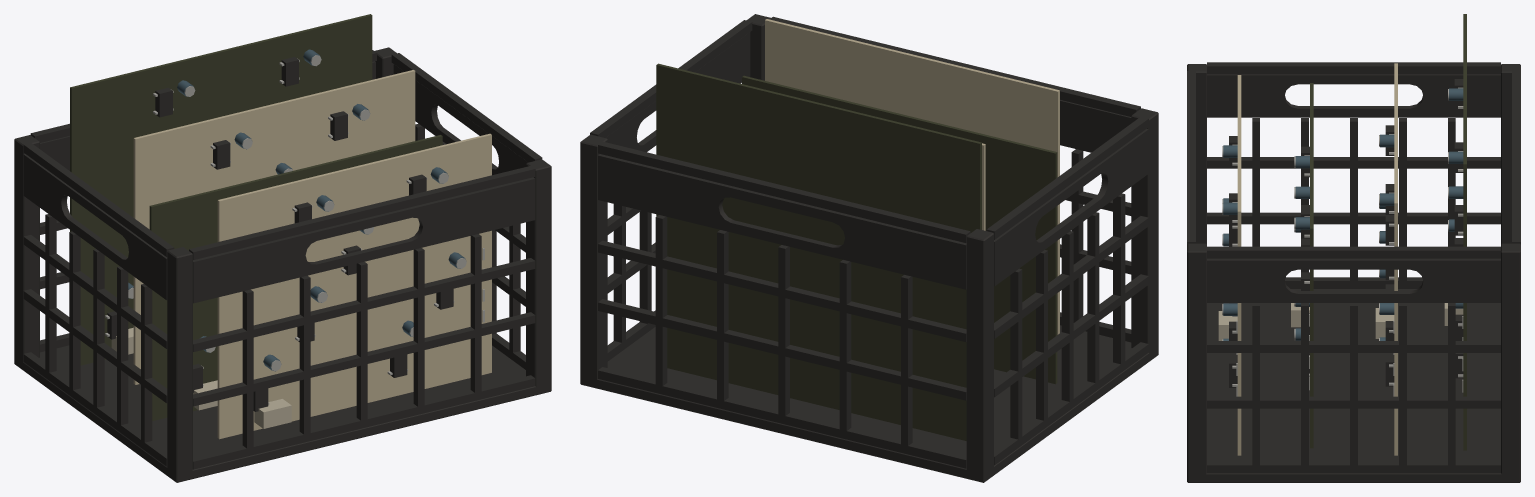
File: crate-salvaged-boards-5e70f31da496.glb
The picture shows the model from 3 angles, left to right: view 1: azimuth 30°, elevation 25°; view 2: azimuth 150°, elevation 25°; view 3: azimuth 270°, elevation 25°; orthographic projection. The views are drawn at different scales.
Visible parts, largest first — view 1: plastic-dark, enamel-beige, paint-olive, brushed, enamel-blue, plastic-light; view 2: plastic-dark, paint-olive, enamel-beige; view 3: plastic-dark, enamel-blue, enamel-beige, paint-olive, brushed, plastic-light.
Part boxes in pixels (x1,y1,x2,y2): plastic-dark: [14, 47, 551, 482]; enamel-beige: [133, 70, 491, 439]; paint-olive: [70, 14, 442, 420]; brushed: [105, 55, 484, 404]; enamel-blue: [128, 49, 465, 371]; plastic-light: [111, 327, 291, 428]; plastic-dark: [580, 14, 1158, 482]; paint-olive: [656, 63, 1057, 440]; enamel-beige: [765, 19, 1059, 334]; plastic-dark: [1187, 62, 1520, 482]; enamel-blue: [1223, 88, 1463, 340]; enamel-beige: [1237, 63, 1397, 455]; paint-olive: [1310, 14, 1466, 450]; brushed: [1222, 87, 1463, 396]; plastic-light: [1218, 303, 1463, 340].
Size of the model in its own units: 0.4 by 0.294 by 0.3.
